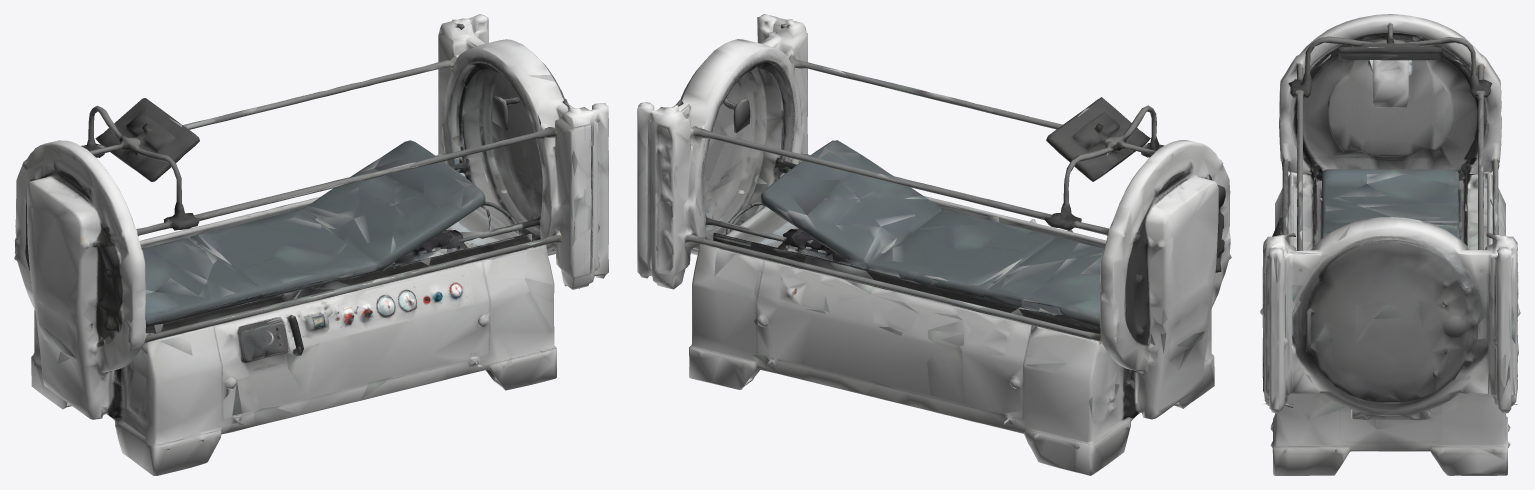
Rendered from Meshy_AI_Hyperbaric_chamber_0312042145_texture.fbx.
3 renders of one model, left to right at view 1: azimuth 30°, elevation 25°; view 2: azimuth 150°, elevation 25°; view 3: azimuth 270°, elevation 25°, orthographic. The views are drawn at different scales.
Visible parts, largest first — view 1: Mesh_0; view 2: Mesh_0; view 3: Mesh_0.
Part boxes in pixels (x1,y1,x2,y2): Mesh_0: (14, 14, 608, 475); Mesh_0: (637, 14, 1231, 475); Mesh_0: (1260, 14, 1520, 475).
Size of the model in its own units: 191 by 109 by 92.23.
Materials: 1 (1 with a texture image).
